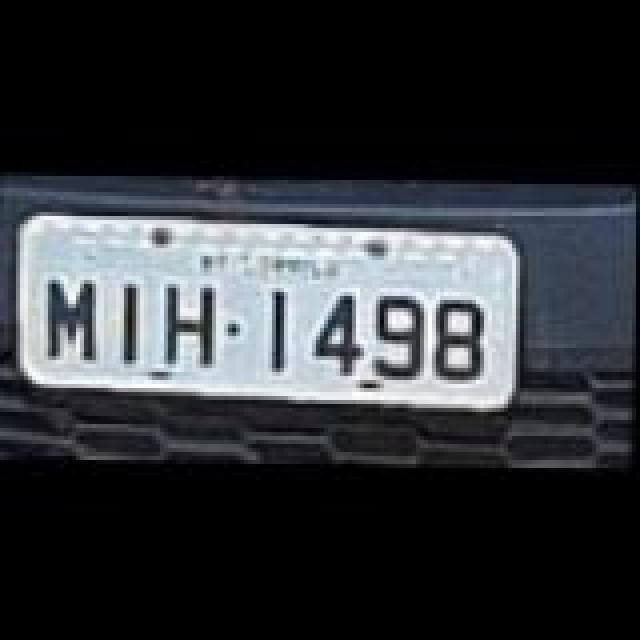1: (116, 278, 148, 362), (270, 290, 290, 374)
4: (318, 290, 370, 374)
8: (434, 296, 486, 380)
9: (378, 292, 430, 376)
H: (166, 280, 218, 364)
M: (46, 274, 98, 358)
